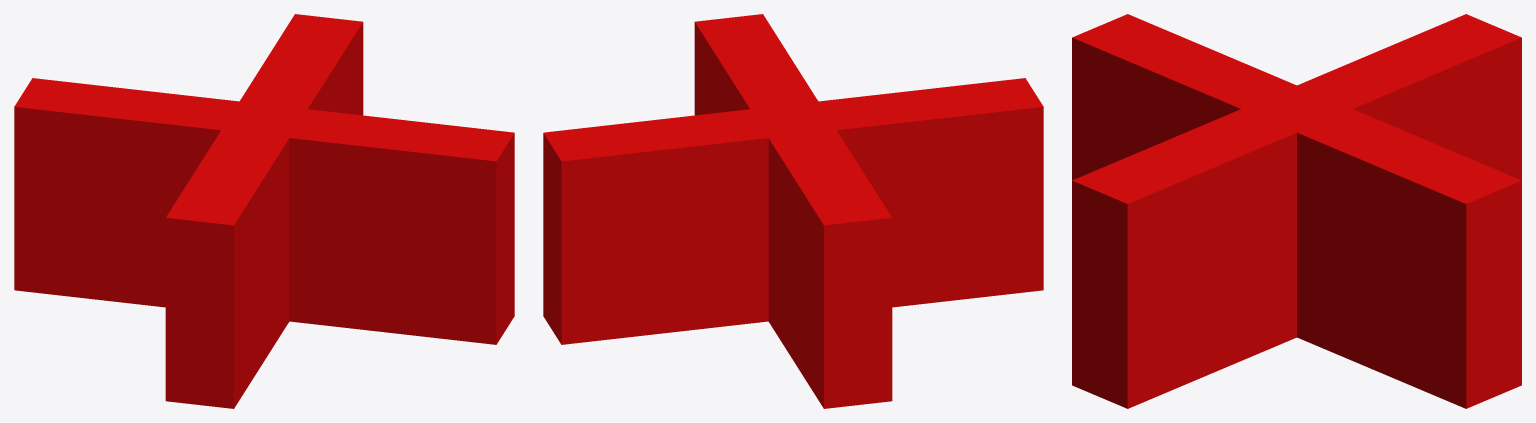
File: cross.glb
3 views of the same model, side by side, from view 1: azimuth 30°, elevation 25°; view 2: azimuth 150°, elevation 25°; view 3: azimuth 270°, elevation 25° (orthographic). The views are drawn at different scales.
Visible parts, largest first — view 1: Cross; view 2: Cross; view 3: Cross.
Boxes of the visible parts, x1,y1,x2,y2 form: Cross: (14, 14, 514, 408); Cross: (543, 14, 1043, 408); Cross: (1072, 14, 1521, 408).
Size of the model in its own units: 0.199 by 0.1 by 0.199.
